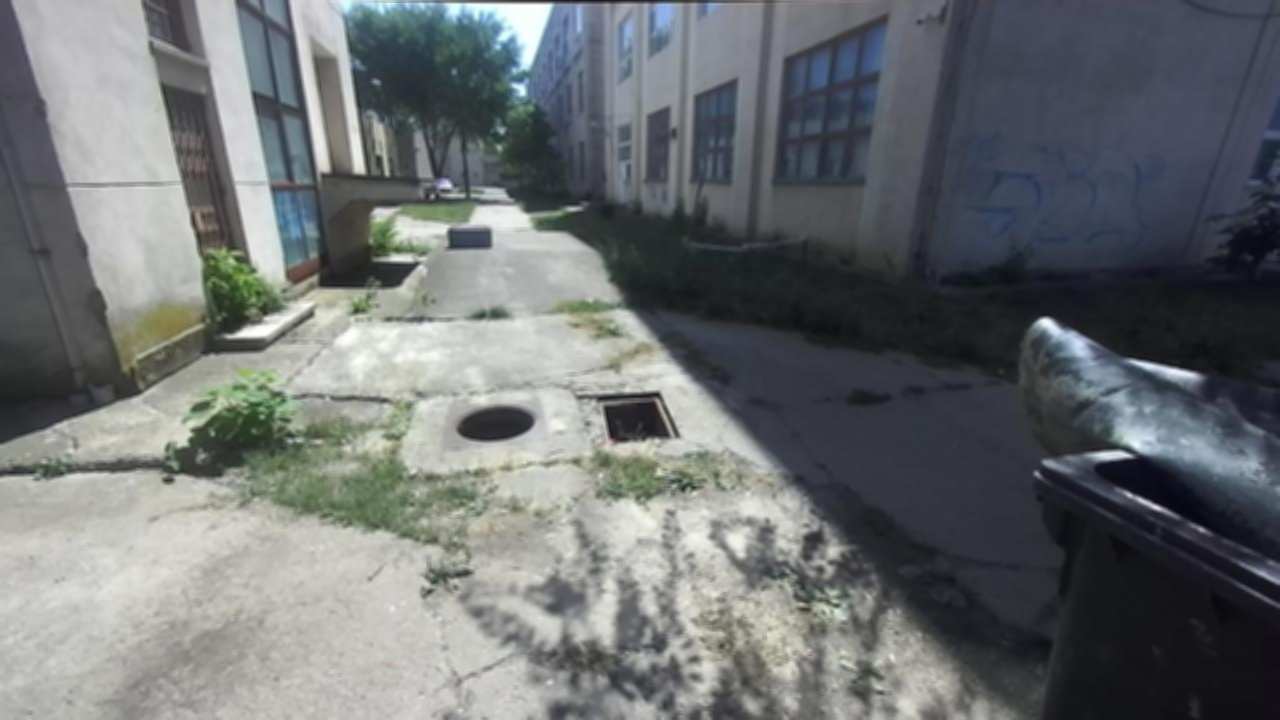drain: (594, 386, 686, 447), (450, 397, 550, 444)
